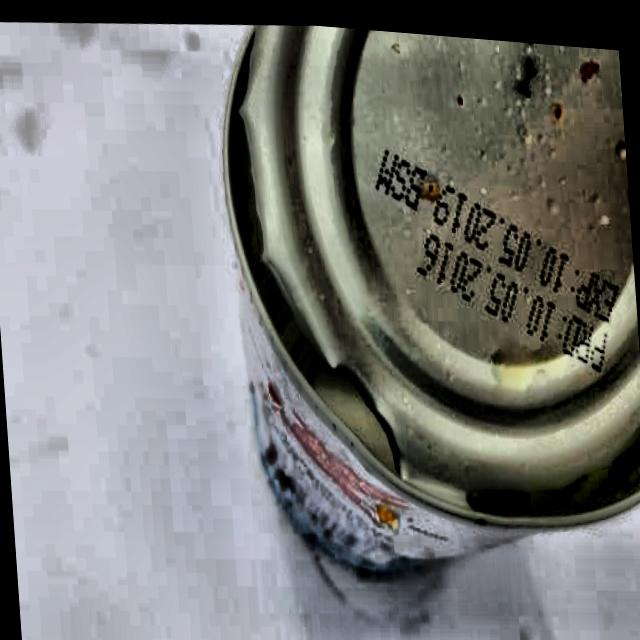Cans: (158, 10, 640, 640)
